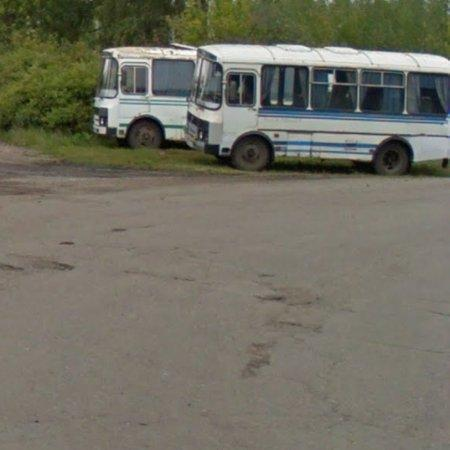buses: (186, 44, 450, 174), (93, 44, 197, 148)
